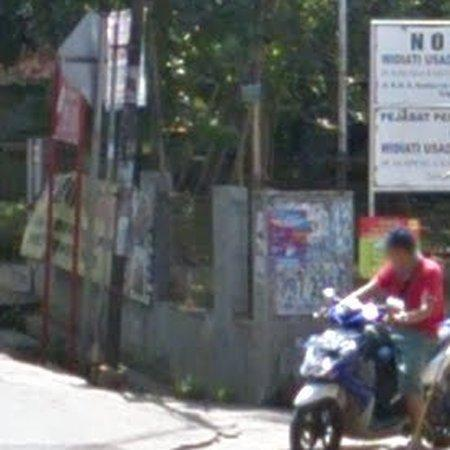motorcycles: (292, 296, 409, 450), (413, 320, 450, 450)
